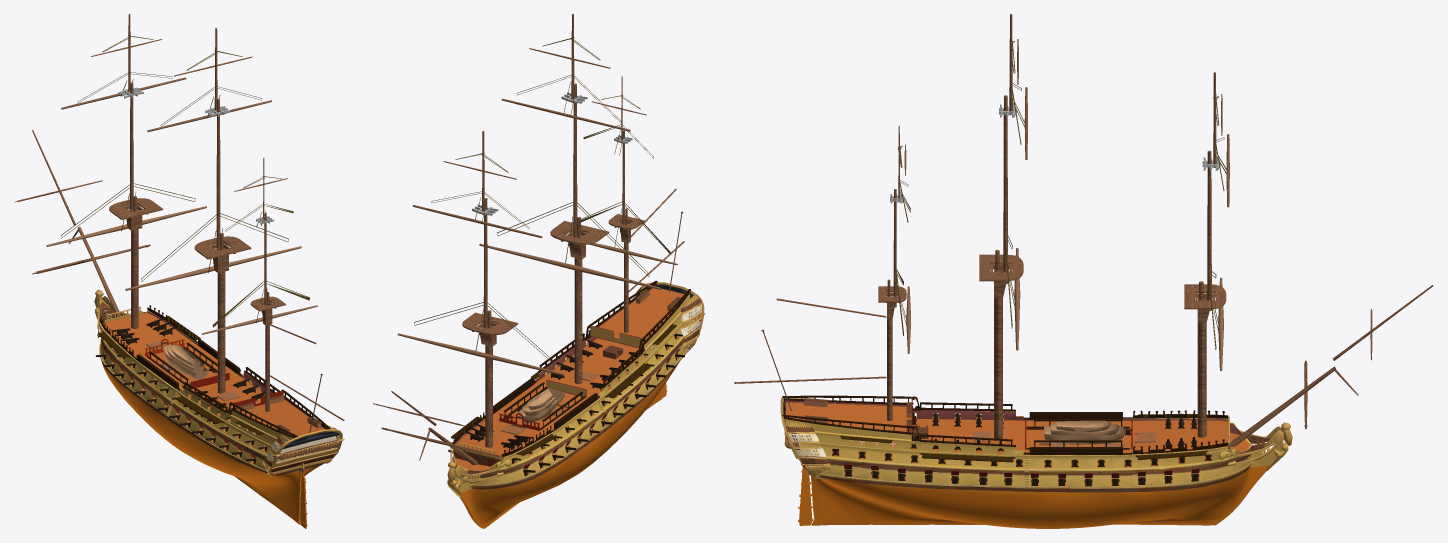
The model's file is Supline.FBX.
The picture shows the model from 3 angles, left to right: view 1: azimuth 30°, elevation 25°; view 2: azimuth 150°, elevation 25°; view 3: azimuth 270°, elevation 25°; orthographic projection. The views are drawn at different scales.
Visible parts, largest first — view 1: SupLine1; view 2: SupLine1; view 3: SupLine1.
Part boxes in pixels (bbox=[...]): SupLine1: bbox=[15, 14, 344, 528]; SupLine1: bbox=[373, 14, 705, 528]; SupLine1: bbox=[734, 14, 1433, 528].
Size of the model in its own units: 8232 by 19516 by 24188.
